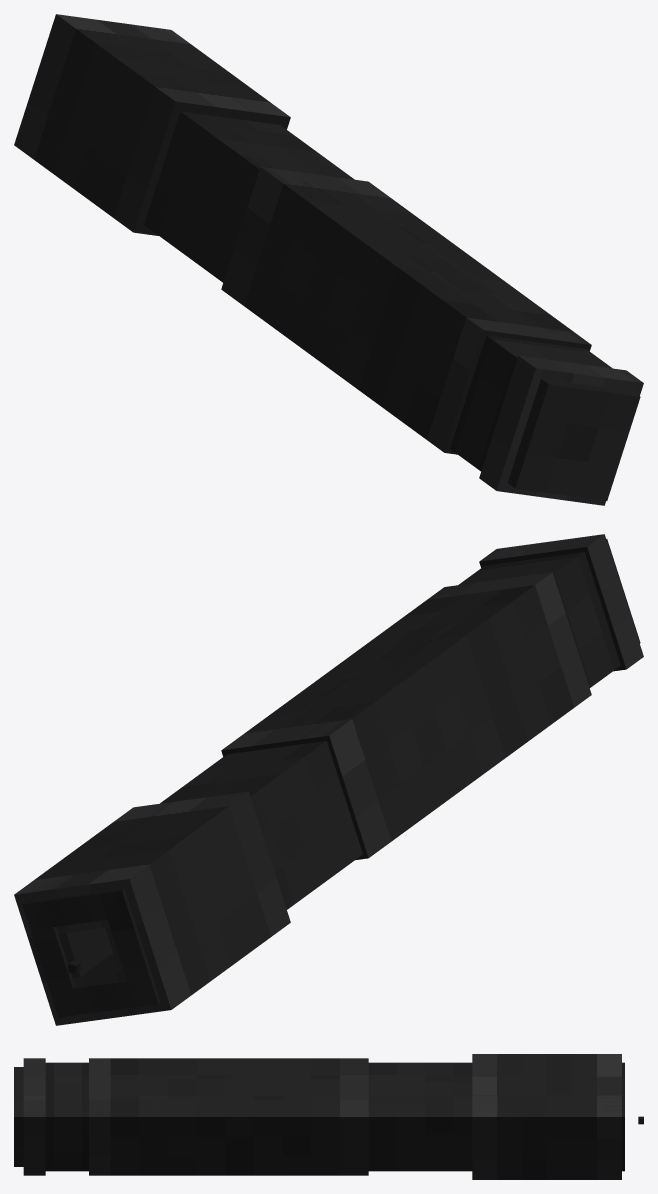
File: c_omega.geo.fbx
The picture shows the model from 3 angles, top to bottom: view 1: azimuth 30°, elevation 25°; view 2: azimuth 150°, elevation 25°; view 3: azimuth 270°, elevation 25°; orthographic projection. The views are drawn at different scales.
Parts seen in each view (by area): view 1: gun; view 2: gun; view 3: gun.
Boxes of the visible parts, <box> form: gun: <box>14,14,643,505</box>; gun: <box>14,534,643,1025</box>; gun: <box>14,1054,624,1179</box>.
Bounding box in the file's own units: 25.07 × 25.07 × 139.
Materials: 1 (1 with a texture image).
